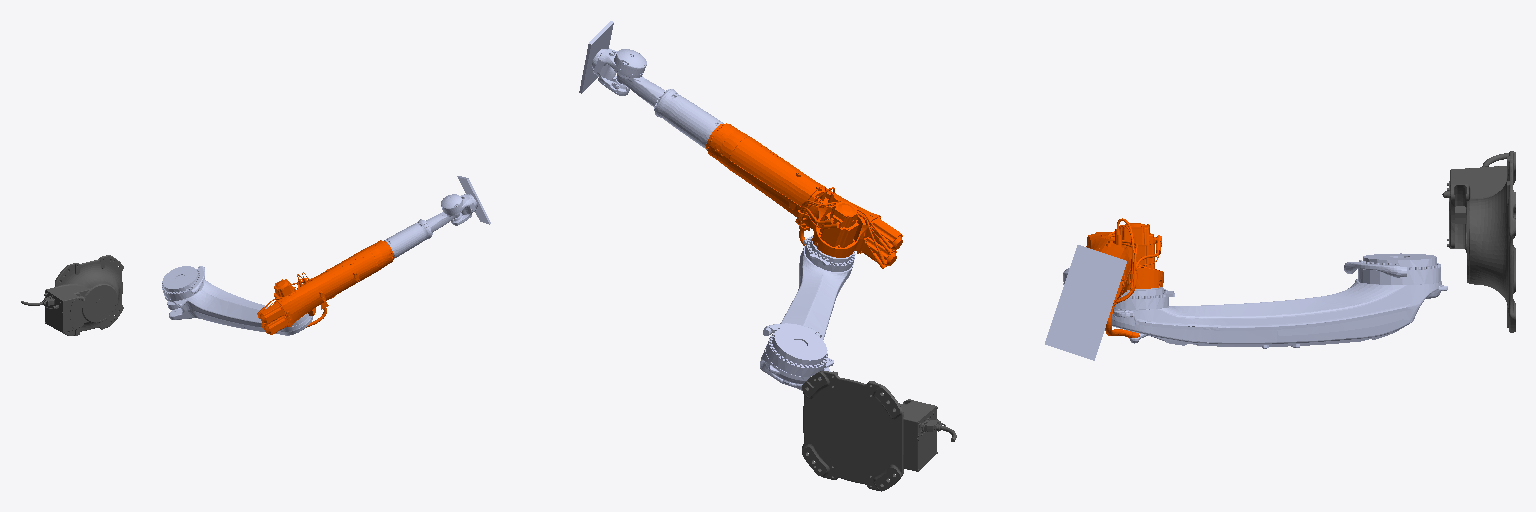
The robot description file, URDF, robot "KR120R3900":
<?xml version="1.0" encoding="utf-8"?>
<!-- This URDF was automatically created by SolidWorks to URDF Exporter! Originally created by [author] ([email redacted]) 
     Commit Version: 1.6.0-4-g7f85cfe  Build Version: 1.6.7995.38578
     For more information, please see http://wiki.ros.org/sw_urdf_exporter -->
<robot
  name="KR120R3900">
  <link
    name="base_link">
    <inertial>
      <origin
        xyz="-0.11981 0.00095475 0.10543"
        rpy="0 0 0" />
      <mass
        value="69.419" />
      <inertia
        ixx="1.5959"
        ixy="0.0085722"
        ixz="0.36667"
        iyy="3.5014"
        iyz="-0.0021187"
        izz="4.272" />
    </inertial>
    <visual>
      <origin
        xyz="0 0 0"
        rpy="0 0 0" />
      <geometry>
        <mesh
          filename="package://KR120R3900/meshes/base_link.STL" />
      </geometry>
      <material
        name="">
        <color
          rgba="0.4 0.4 0.4 1" />
      </material>
    </visual>
    <collision>
      <origin
        xyz="0 0 0"
        rpy="0 0 0" />
      <geometry>
        <mesh
          filename="package://KR120R3900/meshes/base_link.STL" />
      </geometry>
    </collision>
  </link>
  <link
    name="Ax1">
    <inertial>
      <origin
        xyz="0.21322 0.0074862 0.26077"
        rpy="0 0 0" />
      <mass
        value="112.66" />
      <inertia
        ixx="2.9338"
        ixy="-0.80384"
        ixz="-1.3414"
        iyy="9.9259"
        iyz="-0.19044"
        izz="9.4935" />
    </inertial>
    <visual>
      <origin
        xyz="0 0 0"
        rpy="0 0 0" />
      <geometry>
        <mesh
          filename="package://KR120R3900/meshes/Ax1.STL" />
      </geometry>
      <material
        name="">
        <color
          rgba="0.4 0.4 0.4 1" />
      </material>
    </visual>
    <collision>
      <origin
        xyz="0 0 0"
        rpy="0 0 0" />
      <geometry>
        <mesh
          filename="package://KR120R3900/meshes/Ax1.STL" />
      </geometry>
    </collision>
  </link>
  <joint
    name="jnt_Base_to_Ax1"
    type="revolute">
    <origin
      xyz="0 -0.21559 0"
      rpy="1.5708 -0.34738 0" />
    <parent
      link="base_link" />
    <child
      link="Ax1" />
    <axis
      xyz="0 0 1" />
    <limit
      lower="0"
      upper="0"
      effort="0"
      velocity="0" />
  </joint>
  <link
    name="Ax2">
    <inertial>
      <origin
        xyz="-0.136832656859279 0.0144078767700652 0.32155414214809"
        rpy="0 0 0" />
      <mass
        value="276.998100922925" />
      <inertia
        ixx="318.852709801833"
        ixy="0.776560972222151"
        ixz="-176.545924815262"
        iyy="440.992384902426"
        iyz="2.83426651703951"
        izz="130.06696817012" />
    </inertial>
    <visual>
      <origin
        xyz="0 0 0"
        rpy="0 0 0" />
      <geometry>
        <mesh
          filename="package://KR120R3900/meshes/Ax2.STL" />
      </geometry>
      <material
        name="">
        <color
          rgba="0.792156862745098 0.819607843137255 0.933333333333333 1" />
      </material>
    </visual>
    <collision>
      <origin
        xyz="0 0 0"
        rpy="0 0 0" />
      <geometry>
        <mesh
          filename="package://KR120R3900/meshes/Ax2.STL" />
      </geometry>
    </collision>
  </link>
  <joint
    name="jnt_Ax1_to_Ax2"
    type="revolute">
    <origin
      xyz="0.73 0 0.32441"
      rpy="0 0.36697 0" />
    <parent
      link="Ax1" />
    <child
      link="Ax2" />
    <axis
      xyz="0 1 0" />
    <limit
      lower="0"
      upper="0"
      effort="0"
      velocity="0" />
  </joint>
  <link
    name="Ax3">
    <inertial>
      <origin
        xyz="0.372143478673027 -4.17118121699422E-05 0.106533438863164"
        rpy="0 0 0" />
      <mass
        value="67.8633341977998" />
      <inertia
        ixx="0.581052848871638"
        ixy="-0.13715563051977"
        ixz="-0.0109016166060049"
        iyy="6.85816958909181"
        iyz="-0.0271578725085325"
        izz="6.89752904665077" />
    </inertial>
    <visual>
      <origin
        xyz="0 0 0"
        rpy="0 0 0" />
      <geometry>
        <mesh
          filename="package://KR120R3900/meshes/Ax3.STL" />
      </geometry>
      <material
        name="">
        <color
          rgba="1 0.4 0 1" />
      </material>
    </visual>
    <collision>
      <origin
        xyz="0 0 0"
        rpy="0 0 0" />
      <geometry>
        <mesh
          filename="package://KR120R3900/meshes/Ax3.STL" />
      </geometry>
    </collision>
  </link>
  <joint
    name="jnt_Ax2_to_Ax3"
    type="revolute">
    <origin
      xyz="0 0 1.35"
      rpy="0 -0.42829 0" />
    <parent
      link="Ax2" />
    <child
      link="Ax3" />
    <axis
      xyz="0 1 0" />
    <limit
      lower="0"
      upper="0"
      effort="0"
      velocity="0" />
  </joint>
  <link
    name="Ax4">
    <inertial>
      <origin
        xyz="0.392856388545806 0.00132042157247414 -4.55709173508012E-07"
        rpy="0 0 0" />
      <mass
        value="17.1103007358543" />
      <inertia
        ixx="0.0705705137136241"
        ixy="-0.010191314944453"
        ixz="8.14143746615133E-06"
        iyy="0.798703820206423"
        iyz="-7.86396144529522E-07"
        izz="0.798093040071735" />
    </inertial>
    <visual>
      <origin
        xyz="0 0 0"
        rpy="0 0 0" />
      <geometry>
        <mesh
          filename="package://KR120R3900/meshes/Ax4.STL" />
      </geometry>
      <material
        name="">
        <color
          rgba="0.792156862745098 0.819607843137255 0.933333333333333 1" />
      </material>
    </visual>
    <collision>
      <origin
        xyz="0 0 0"
        rpy="0 0 0" />
      <geometry>
        <mesh
          filename="package://KR120R3900/meshes/Ax4.STL" />
      </geometry>
    </collision>
  </link>
  <joint
    name="jnt_Ax3_to_Ax4"
    type="revolute">
    <origin
      xyz="0.9909 0 0.115"
      rpy="0.083358 0 0" />
    <parent
      link="Ax3" />
    <child
      link="Ax4" />
    <axis
      xyz="1 0 0" />
    <limit
      lower="0"
      upper="0"
      effort="0"
      velocity="0" />
  </joint>
  <link
    name="Ax5">
    <inertial>
      <origin
        xyz="0.051767116658477 0.0338271406479826 -4.43843200792493E-05"
        rpy="0 0 0" />
      <mass
        value="6.83021133378002" />
      <inertia
        ixx="0.0611665262361527"
        ixy="0.0149901526275177"
        ixz="1.89494897224055E-05"
        iyy="0.054041031435701"
        iyz="3.52407908043246E-05"
        izz="0.08587461873486" />
    </inertial>
    <visual>
      <origin
        xyz="0 0 0"
        rpy="0 0 0" />
      <geometry>
        <mesh
          filename="package://KR120R3900/meshes/Ax5.STL" />
      </geometry>
      <material
        name="">
        <color
          rgba="0.792156862745098 0.819607843137255 0.933333333333333 1" />
      </material>
    </visual>
    <collision>
      <origin
        xyz="0 0 0"
        rpy="0 0 0" />
      <geometry>
        <mesh
          filename="package://KR120R3900/meshes/Ax5.STL" />
      </geometry>
    </collision>
  </link>
  <joint
    name="jnt_Ax4_to_Ax5"
    type="revolute">
    <origin
      xyz="0.8291 0 0"
      rpy="0 0.043548 0" />
    <parent
      link="Ax4" />
    <child
      link="Ax5" />
    <axis
      xyz="0 1 0" />
    <limit
      lower="0"
      upper="0"
      effort="0"
      velocity="0" />
  </joint>
  <link
    name="Ax6">
    <inertial>
      <origin
        xyz="0.075421153011026 -7.40807057847404E-06 5.04801295508894E-05"
        rpy="0 0 0" />
      <mass
        value="0.576833152319335" />
      <inertia
        ixx="0.00137814989301989"
        ixy="6.51907434856228E-08"
        ixz="-2.53894277537053E-07"
        iyy="0.000767002773596282"
        iyz="1.31490592791559E-08"
        izz="0.000764903466159646" />
    </inertial>
    <visual>
      <origin
        xyz="0 0 0"
        rpy="0 0 0" />
      <geometry>
        <mesh
          filename="package://KR120R3900/meshes/Ax6.STL" />
      </geometry>
      <material
        name="">
        <color
          rgba="0.792156862745098 0.819607843137255 0.933333333333333 1" />
      </material>
    </visual>
    <collision>
      <origin
        xyz="0 0 0"
        rpy="0 0 0" />
      <geometry>
        <mesh
          filename="package://KR120R3900/meshes/Ax6.STL" />
      </geometry>
    </collision>
  </link>
  <joint
    name="jnt_Ax5_to_Ax6"
    type="revolute">
    <origin
      xyz="0.1178 0 0"
      rpy="0.051821 0 0" />
    <parent
      link="Ax5" />
    <child
      link="Ax6" />
    <axis
      xyz="1 0 0" />
    <limit
      lower="0"
      upper="0"
      effort="0"
      velocity="0" />
  </joint>
  <link
    name="Tool">
    <inertial>
      <origin
        xyz="0.0043843 -0.0089877 0.10702"
        rpy="0 0 0" />
      <mass
        value="2.5342" />
      <inertia
        ixx="0.052186"
        ixy="-4.7054E-16"
        ixz="-2.4194E-16"
        iyy="0.013124"
        iyz="-1.2094E-15"
        izz="0.065131" />
    </inertial>
    <visual>
      <origin
        xyz="0 0 0"
        rpy="0 0 0" />
      <geometry>
        <mesh
          filename="package://KR120R3900/meshes/Tool.STL" />
      </geometry>
      <material
        name="">
        <color
          rgba="0.79216 0.81961 0.93333 1" />
      </material>
    </visual>
    <collision>
      <origin
        xyz="0 0 0"
        rpy="0 0 0" />
      <geometry>
        <mesh
          filename="package://KR120R3900/meshes/Tool.STL" />
      </geometry>
    </collision>
  </link>
  <joint
    name="FixJnt_Ax6_to_Tool"
    type="fixed">
    <origin
      xyz="0 0.01 0"
      rpy="-1.5708 1.117 -1.5708" />
    <parent
      link="Ax6" />
    <child
      link="Tool" />
    <axis
      xyz="0 0 1" />
  </joint>
</robot>

--- Render facts (derived) ---
3 views of the same robot in one strip: view 1: azimuth 30°, elevation 25°; view 2: azimuth 150°, elevation 25°; view 3: azimuth 270°, elevation 25° (orthographic).
Model KR120R3900 with 8 links and 7 joints (6 revolute, 1 fixed), rooted at base_link, posed every joint at zero.
Links seen in each view (by area): view 1: base_link, Ax3, Ax2, Ax4, Ax5; view 2: base_link, Ax3, Ax2, Ax4, Ax5, Tool; view 3: Ax2, base_link, Tool, Ax3.
Link boxes in pixels (box(x1,y1,x2,y2)): base_link: box(21, 255, 123, 335); Ax3: box(257, 240, 394, 334); Ax2: box(162, 266, 312, 335); Ax4: box(384, 211, 461, 258); Ax5: box(441, 194, 476, 225); base_link: box(802, 370, 956, 491); Ax3: box(706, 123, 902, 268); Ax2: box(760, 236, 855, 390); Ax4: box(614, 70, 723, 149); Ax5: box(593, 48, 646, 95); Tool: box(579, 21, 613, 93); Ax2: box(1112, 253, 1447, 348); base_link: box(1442, 151, 1515, 332); Tool: box(1045, 245, 1126, 360); Ax3: box(1086, 218, 1163, 337).
Bounding box of the posed robot: 3.91 × 2.24 × 1.75 m (x, y, z).
7 mesh visuals loaded from 8 distinct referenced files (7 binary STL); not drawn: 1 (reference not matched to a file when rendering).